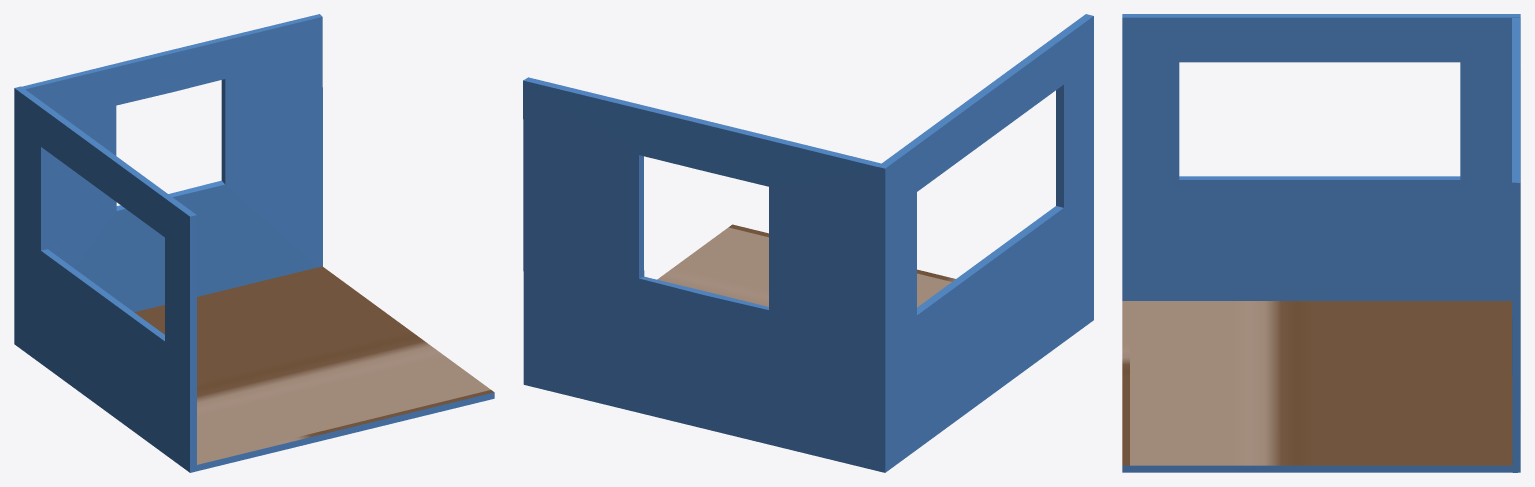
Rendered from Bedroom_2_Base.fbx.
3 renders of one model, left to right at view 1: azimuth 30°, elevation 25°; view 2: azimuth 150°, elevation 25°; view 3: azimuth 270°, elevation 25°, orthographic. The views are drawn at different scales.
Visible parts, largest first — view 1: Bedroom_2_Base; view 2: Bedroom_2_Base; view 3: Bedroom_2_Base.
Boxes of the visible parts, <box> form: Bedroom_2_Base: <box>14,14,494,472</box>; Bedroom_2_Base: <box>523,14,1093,472</box>; Bedroom_2_Base: <box>1122,14,1520,472</box>.
Bounding box in the file's own units: 501 × 402 × 500.
